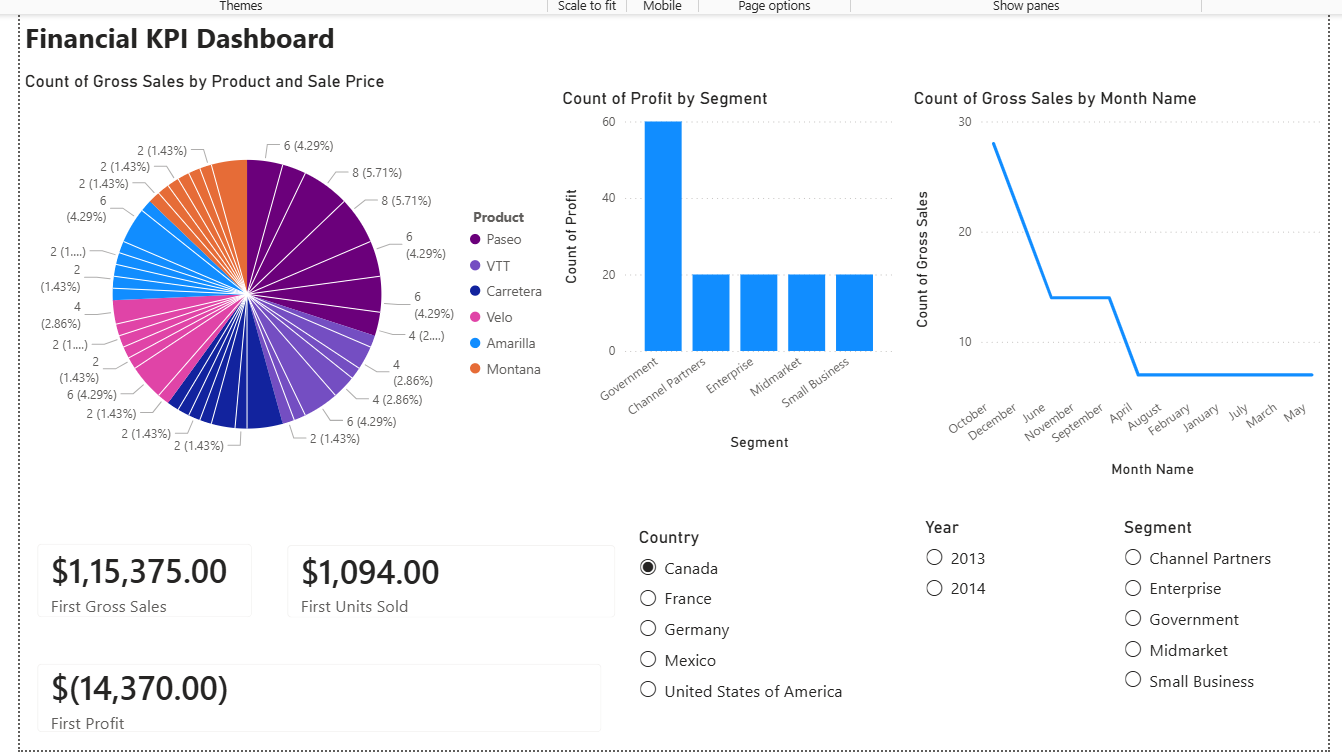

The page's visual inventory and layout, read from the dashboard file:
{"tool":"powerbi","page":{"name":"Page 1","canvas":[1280,720],"ordinal":0},"visuals":[{"type":"cardVisual","fields":{"Data":["Min(Financials. Gross Sales )"]},"box":[0,501.4,244.6,106.4],"z":4507},{"type":"cardVisual","fields":{"Data":["Min(Financials. Profit )"]},"box":[0,618.8,587,101.5],"z":5007},{"type":"cardVisual","fields":{"Data":["Min(Financials. Units Sold )"]},"box":[244.6,502.6,355.8,105.2],"z":5507},{"type":"lineChart","fields":{"Category":["Financials. Month Name "],"Y":["CountNonNull(Financials. Gross Sales )"]},"box":[869.4,72.1,410.9,386.4],"z":6007},{"type":"clusteredColumnChart","fields":{"Category":["Financials.Segment"],"Y":["CountNonNull(Financials. Profit )"]},"box":[525.8,72.1,333.8,359.5],"z":6507},{"type":"pieChart","fields":{"Category":["Financials. Product "],"Y":["CountNonNull(Financials. Gross Sales )"],"Series":["Financials. Sale Price "]},"box":[0,55,524.6,419.4],"z":7007},{"type":"listSlicer","fields":{"Values":["Financials.Country"]},"box":[600.4,501.4,280,218.9],"z":7507},{"type":"listSlicer","fields":{"Values":["Financials.Year"]},"box":[880.4,491.6,194.4,228.7],"z":8007},{"type":"textbox","box":[0,0,578.4,55],"z":8009},{"type":"listSlicer","fields":{"Values":["Financials.Segment"]},"box":[1074.9,491.6,205.4,228.7],"z":8010}]}

Visuals, with their boxes on the page's 1280x720 design canvas (x1, y1, x2, y2). These are canvas units, not pixel positions in the 1342x755 screenshot, which may show the page scaled, cropped or inside an application window:
cardVisual - Min(Financials. Gross Sales ): bbox(0, 501, 245, 608)
cardVisual - Min(Financials. Profit ): bbox(0, 619, 587, 720)
cardVisual - Min(Financials. Units Sold ): bbox(245, 503, 600, 608)
lineChart - Financials. Month Name  x CountNonNull(Financials. Gross Sales ): bbox(869, 72, 1280, 458)
clusteredColumnChart - Financials.Segment x CountNonNull(Financials. Profit ): bbox(526, 72, 860, 432)
pieChart - Financials. Product  x CountNonNull(Financials. Gross Sales ): bbox(0, 55, 525, 474)
listSlicer - Financials.Country: bbox(600, 501, 880, 720)
listSlicer - Financials.Year: bbox(880, 492, 1075, 720)
textbox: bbox(0, 0, 578, 55)
listSlicer - Financials.Segment: bbox(1075, 492, 1280, 720)
